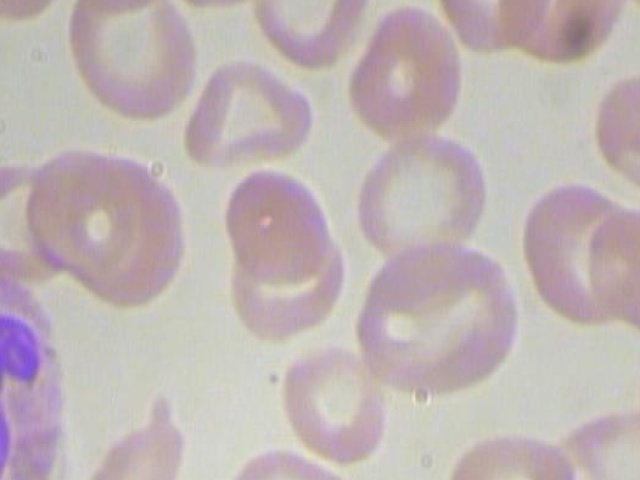RBC: (348, 236, 527, 407), (58, 0, 216, 127), (353, 131, 491, 267), (519, 177, 640, 332), (345, 1, 473, 145), (183, 49, 314, 181), (271, 339, 386, 472), (221, 160, 339, 286), (51, 392, 193, 480), (490, 0, 632, 70), (438, 419, 583, 480), (435, 0, 550, 62), (219, 441, 387, 480)
WBC: (0, 245, 65, 480)
